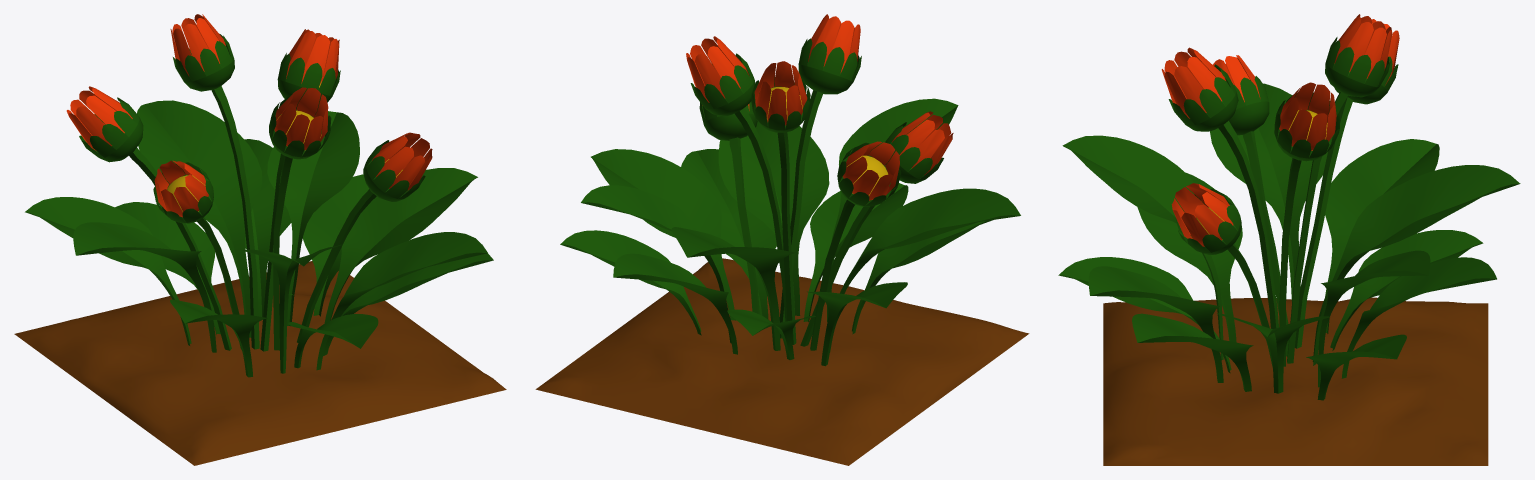
File: orange-daisy-p3-leaf.glb
The picture shows the model from 3 angles, left to right: view 1: azimuth 30°, elevation 25°; view 2: azimuth 150°, elevation 25°; view 3: azimuth 270°, elevation 25°; orthographic projection. The views are drawn at different scales.
Visible parts, largest first — view 1: 3_nft_out_of_bloom; view 2: 3_nft_out_of_bloom; view 3: 3_nft_out_of_bloom.
Boxes of the visible parts, x1,y1,x2,y2 form: 3_nft_out_of_bloom: (14, 14, 506, 465); 3_nft_out_of_bloom: (535, 14, 1029, 465); 3_nft_out_of_bloom: (1058, 14, 1520, 465).
Size of the model in its own units: 0.9323 by 0.7053 by 0.8405.
